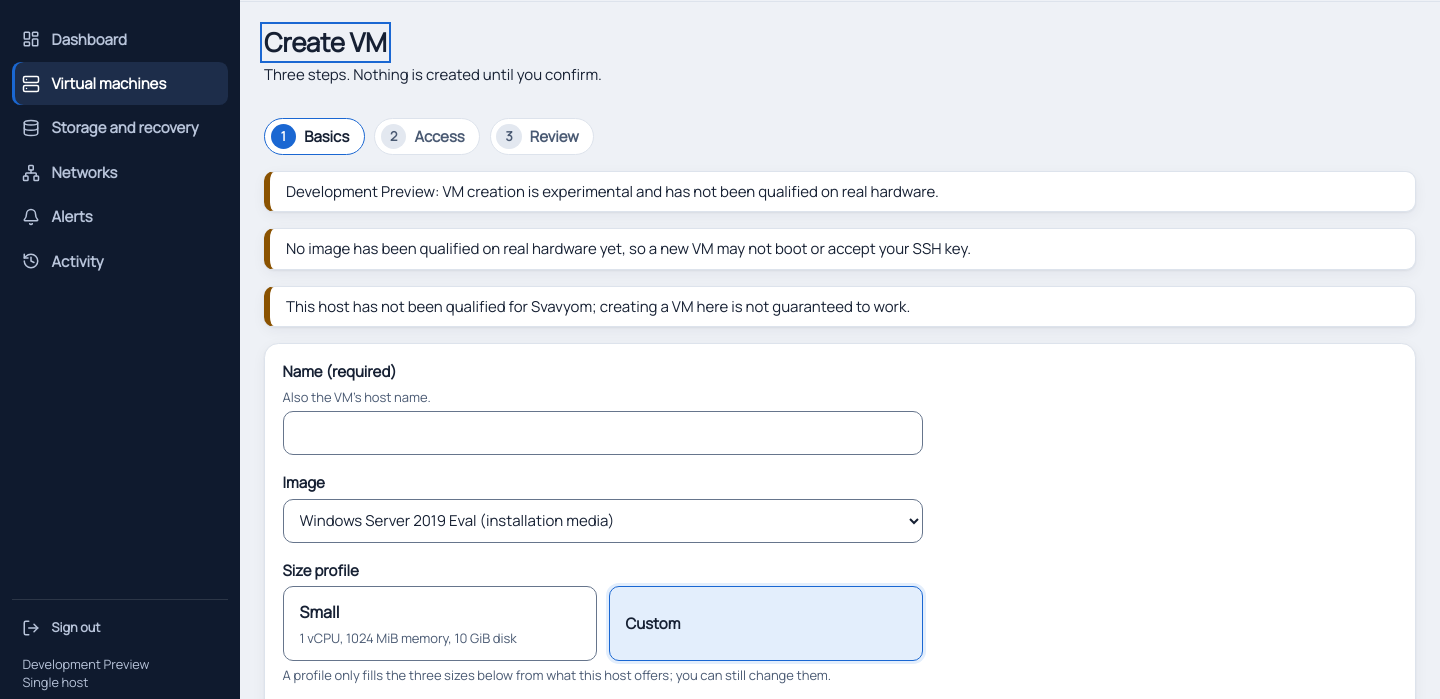
installation media (M6-E01-S06) › after create, says the VM is stopped and points to Start and the graphical console
Type "win-1" into the field labelled "Name (required)".
click(603, 433); type("win-1")  # box [283,411,923,455]
(page scrolled)
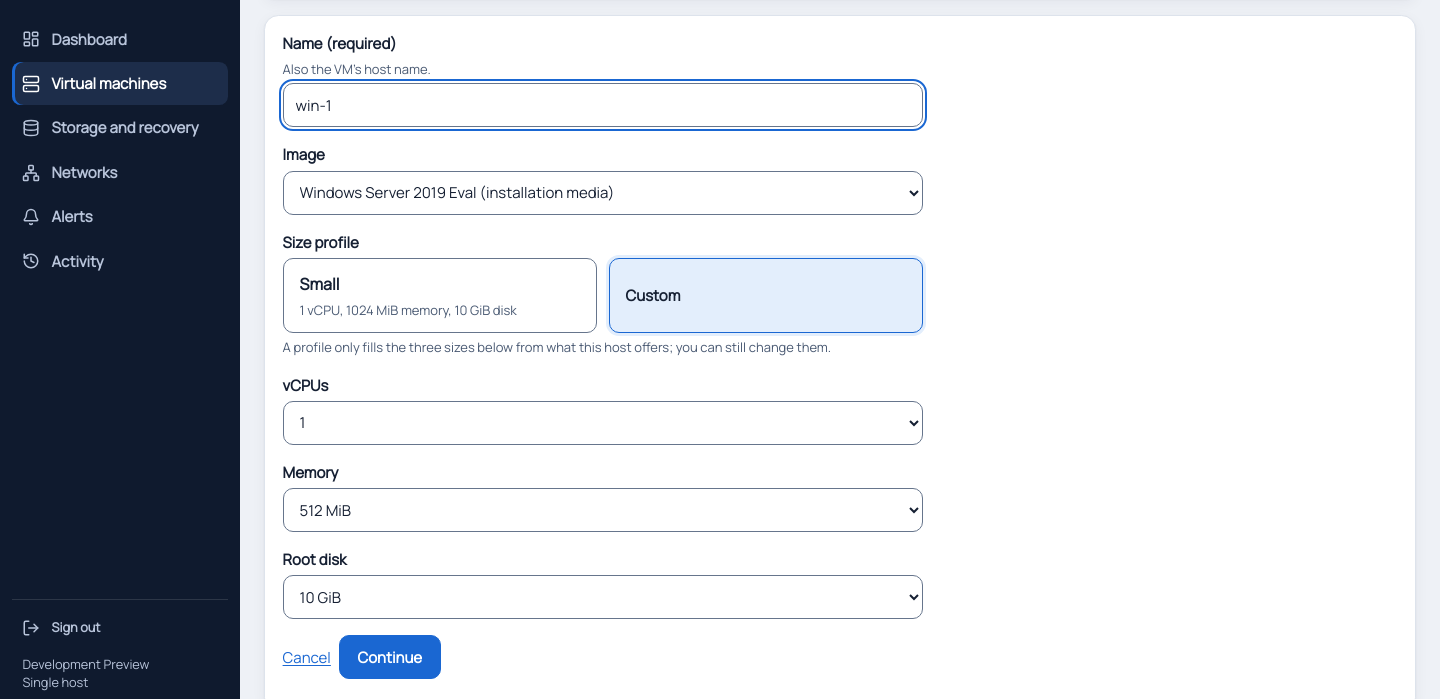
Click the button "Continue".
click(390, 657)  # box [339,635,441,679]
(page scrolled)
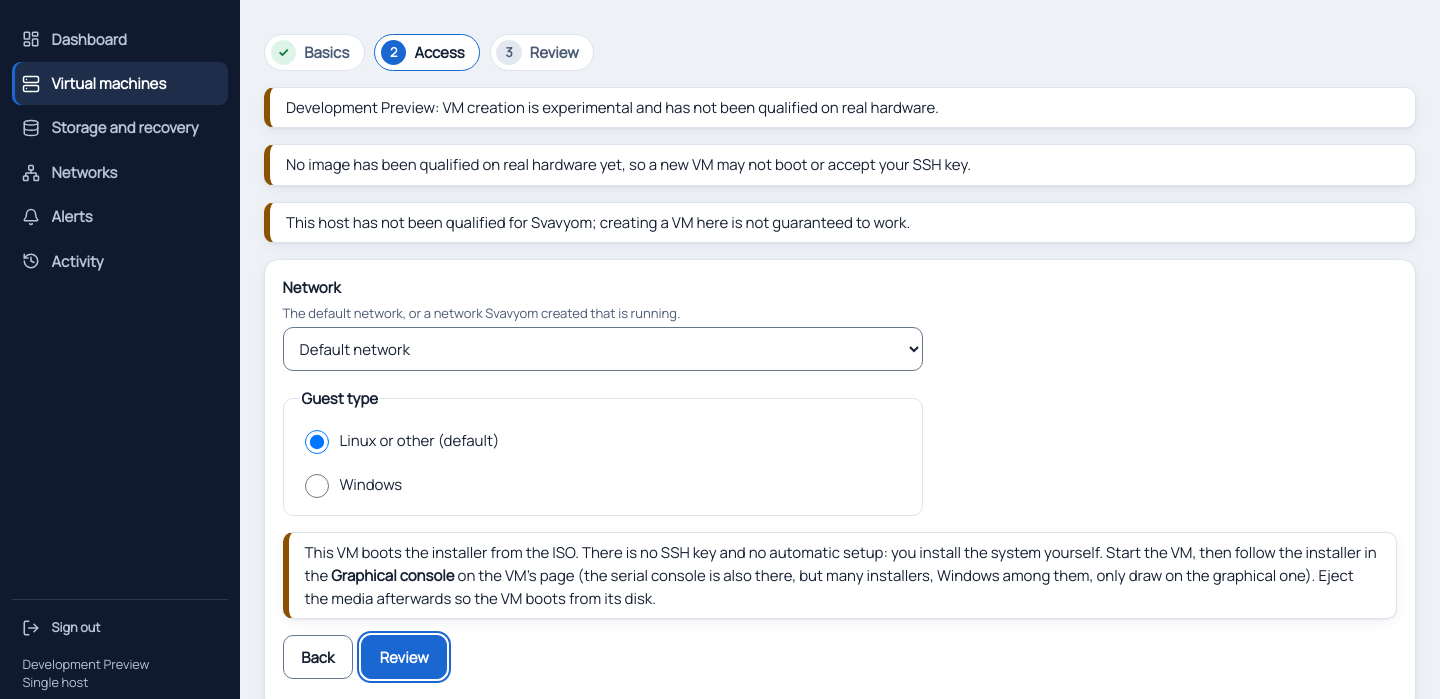
Click the button "Review".
click(404, 657)  # box [361,635,447,679]
(page scrolled)
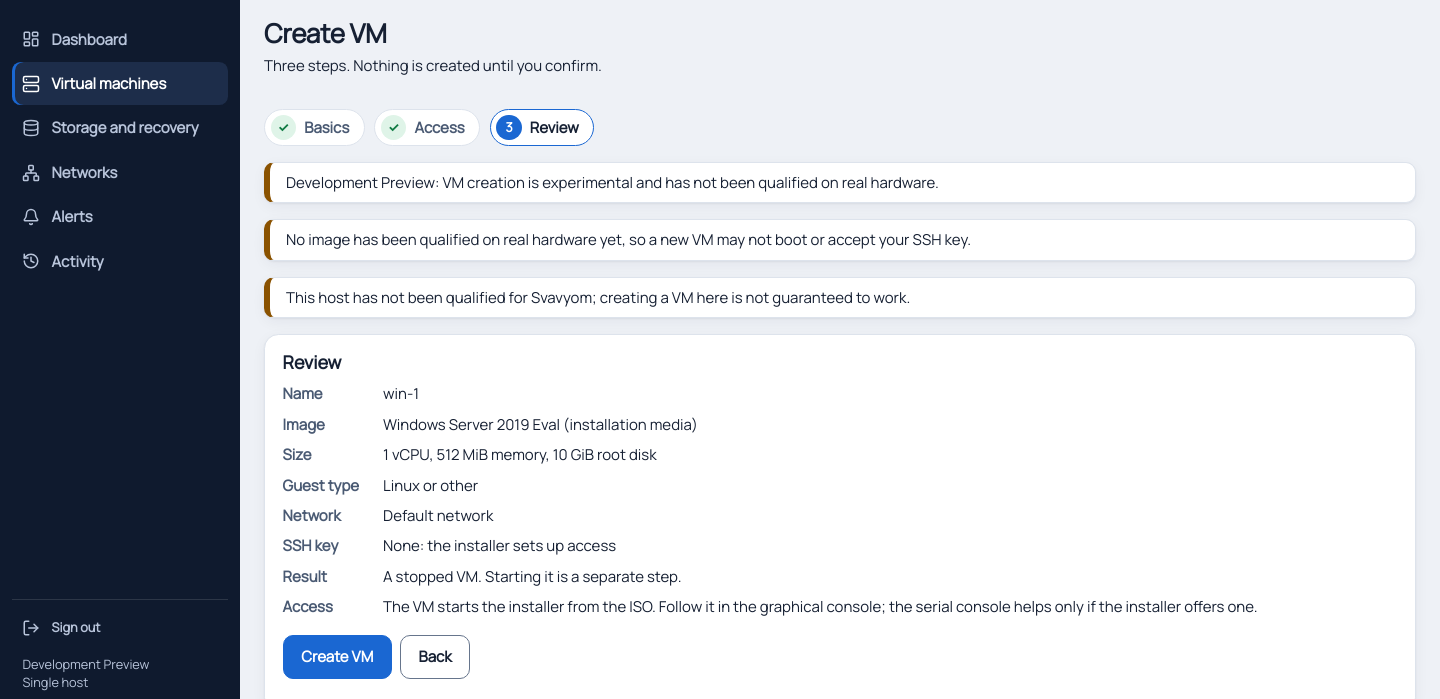
Click the button "Create VM".
click(337, 657)  # box [283,635,392,679]
(page scrolled)
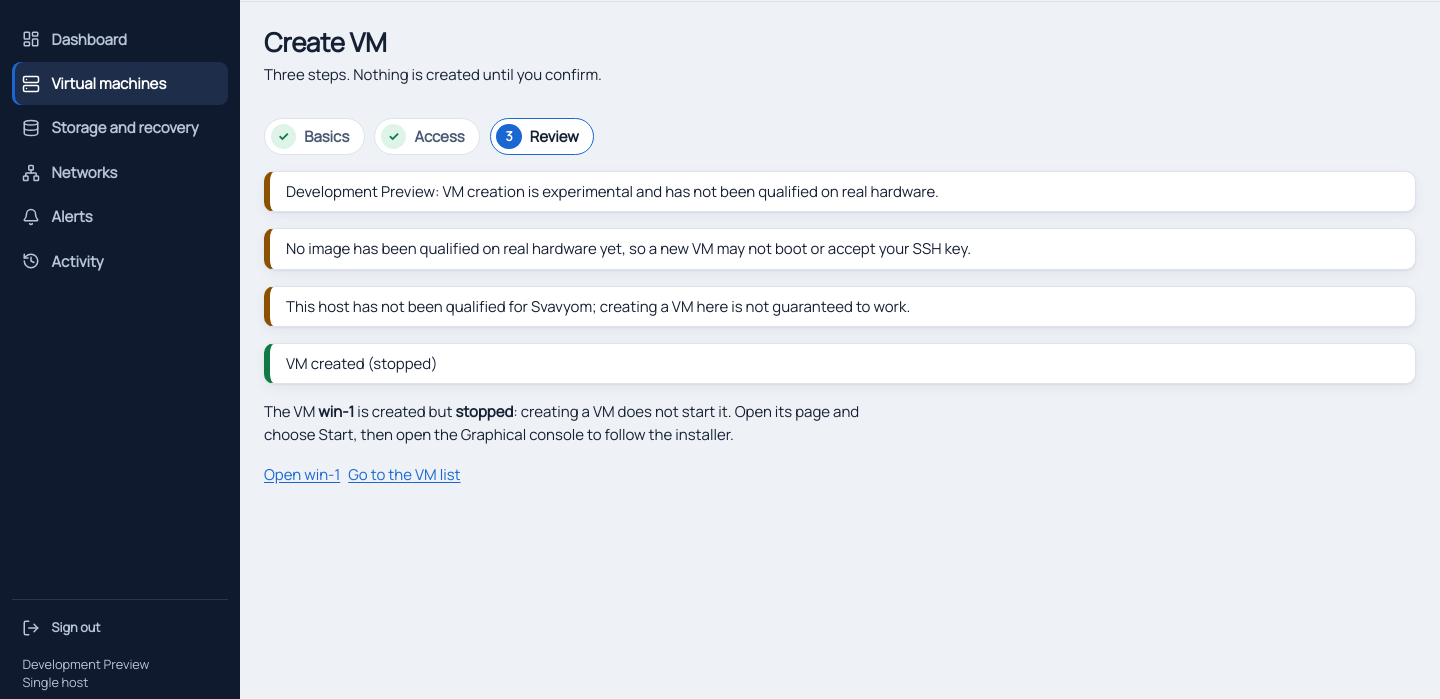
Expected: the text "then open the Graphical console to follow the installer" is shown, [354,424,730,445]
